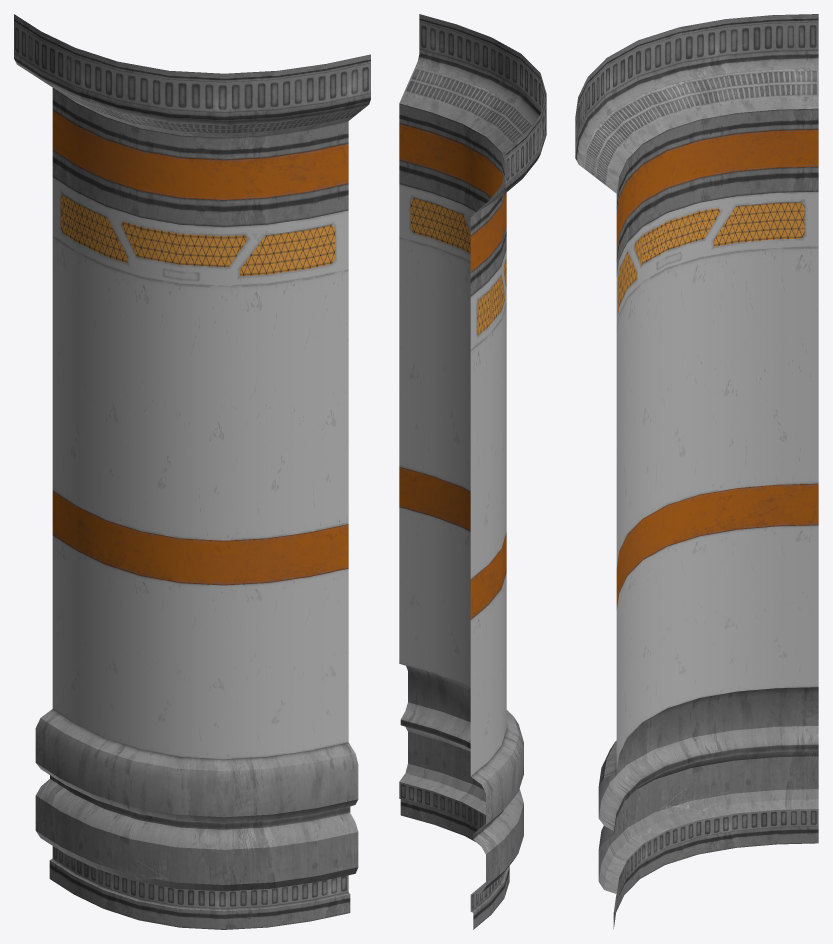
File: Wall_CurvedOutside.fbx
3 views of the same model, side by side, from view 1: azimuth 30°, elevation 25°; view 2: azimuth 150°, elevation 25°; view 3: azimuth 270°, elevation 25° (orthographic). The views are drawn at different scales.
Parts seen in each view (by area): view 1: Wall_CurvedOutside; view 2: Wall_CurvedOutside; view 3: Wall_CurvedOutside.
Part boxes in pixels (x1,y1,x2,y2): Wall_CurvedOutside: [14, 14, 370, 929]; Wall_CurvedOutside: [399, 14, 546, 929]; Wall_CurvedOutside: [575, 14, 818, 928].
Bounding box in the file's own units: 2.37 × 8.76 × 2.37.
